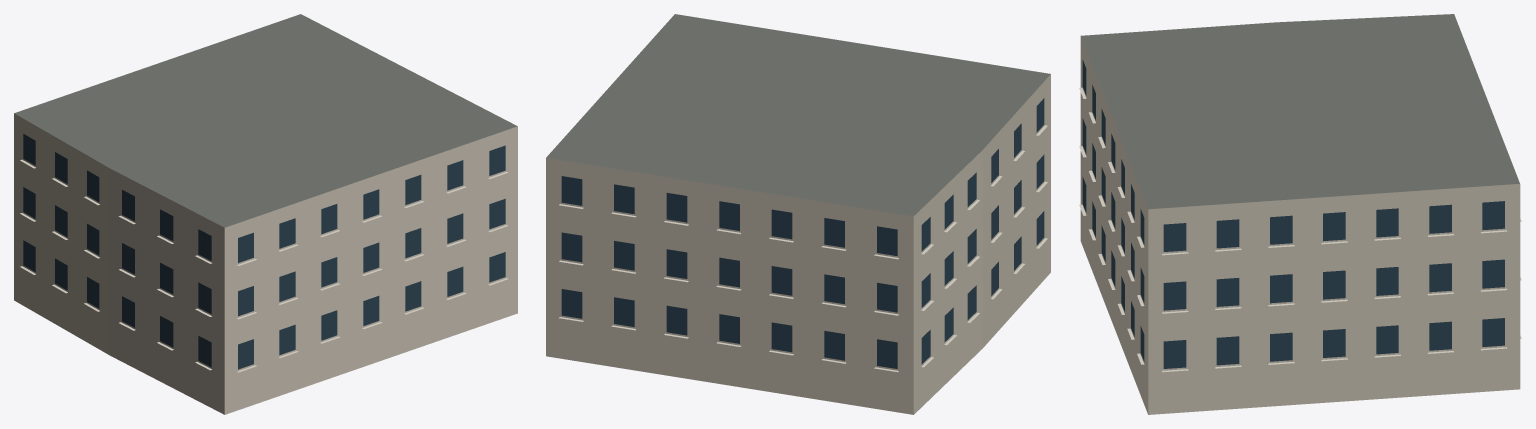
3 renders of one model, left to right at view 1: azimuth 30°, elevation 25°; view 2: azimuth 150°, elevation 25°; view 3: azimuth 270°, elevation 25°, orthographic. The views are drawn at different scales.
Visible parts, largest first — view 1: Footprint 0, Inferred window bays, Window sills; view 2: Footprint 0, Inferred window bays, Window sills; view 3: Footprint 0, Inferred window bays, Window sills.
Part boxes in pixels (x1,y1,x2,y2): Footprint 0: (14, 14, 517, 414); Inferred window bays: (23, 134, 505, 369); Window sills: (20, 159, 508, 372); Footprint 0: (546, 14, 1050, 414); Inferred window bays: (561, 98, 1044, 368); Window sills: (559, 125, 1047, 372); Footprint 0: (1080, 14, 1520, 414); Inferred window bays: (1082, 60, 1504, 368); Window sills: (1079, 87, 1521, 372).
Bounding box in the file's own units: 25.28 × 12.29 × 23.98.
